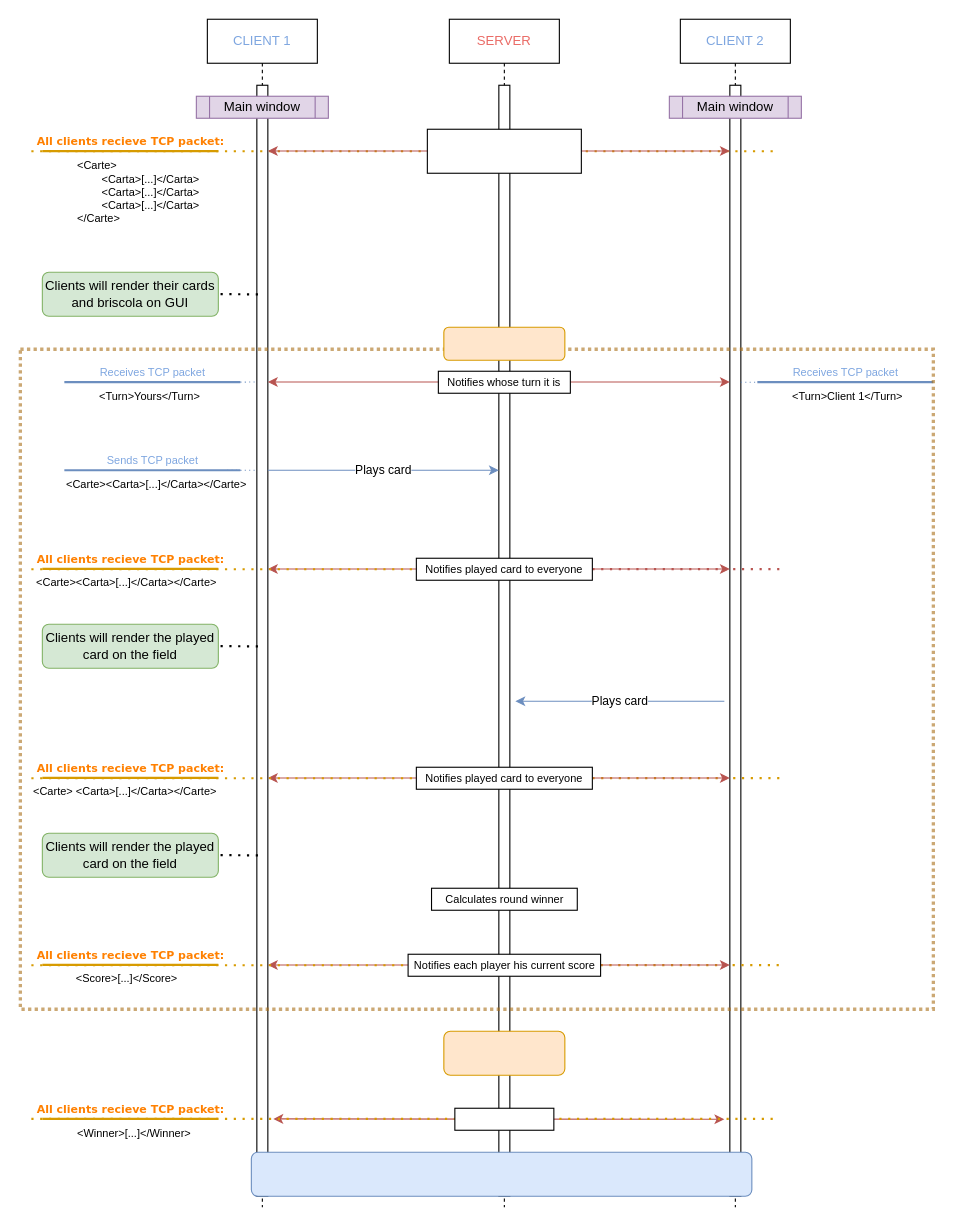
This 955x1227 diagram has some shape labels left out. Here are the shapes that lost their labels. From the top down, the centre of each, then its label:
At point 503,150: "-Distributes 3 cards to each player -Sends briscola".
At point 504,343: "Round 1".
At point 504,1052: "Keeps going until the deck is empty".
At point 504,1118: "Notifies winner".
At point 501,1173: "Game ends".
